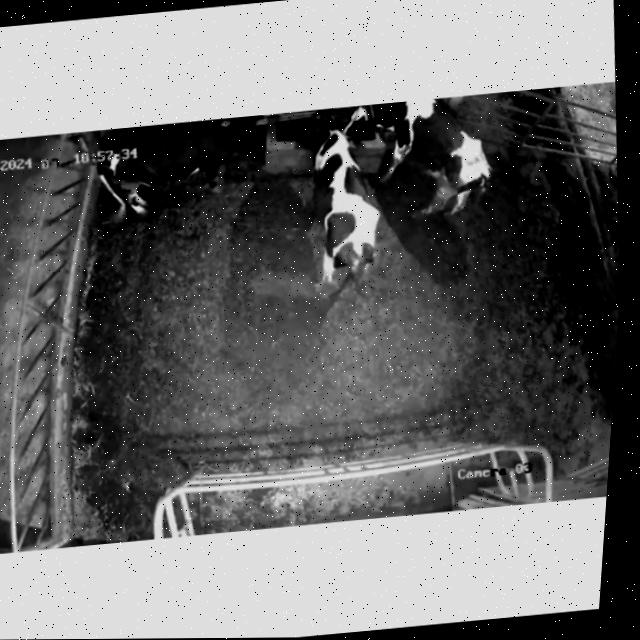drink: (339, 99, 416, 144), (302, 105, 358, 155)
stand: (73, 112, 276, 223)
